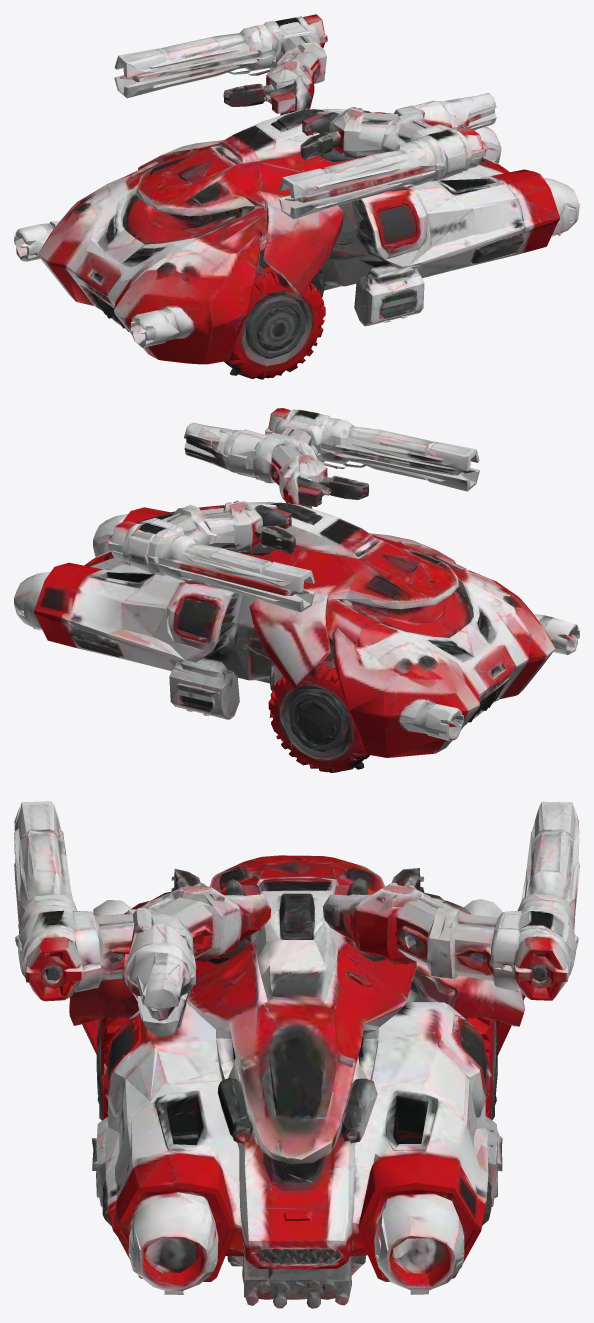
Rendered from mx_wz_hovertank.glb.
The picture shows the model from 3 angles, top to bottom: view 1: azimuth 30°, elevation 25°; view 2: azimuth 150°, elevation 25°; view 3: azimuth 270°, elevation 25°; orthographic projection. The views are drawn at different scales.
Bounding box in the file's own units: 1.89 × 0.8894 × 1.3.
1 material, 1 textured.
